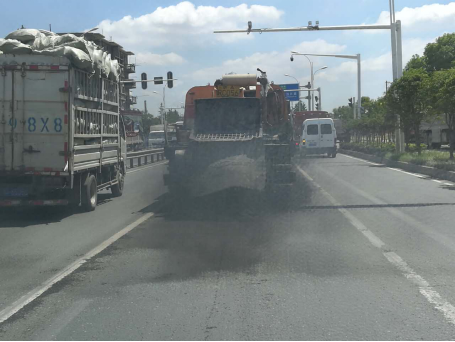smoke: (154, 143, 311, 275)
